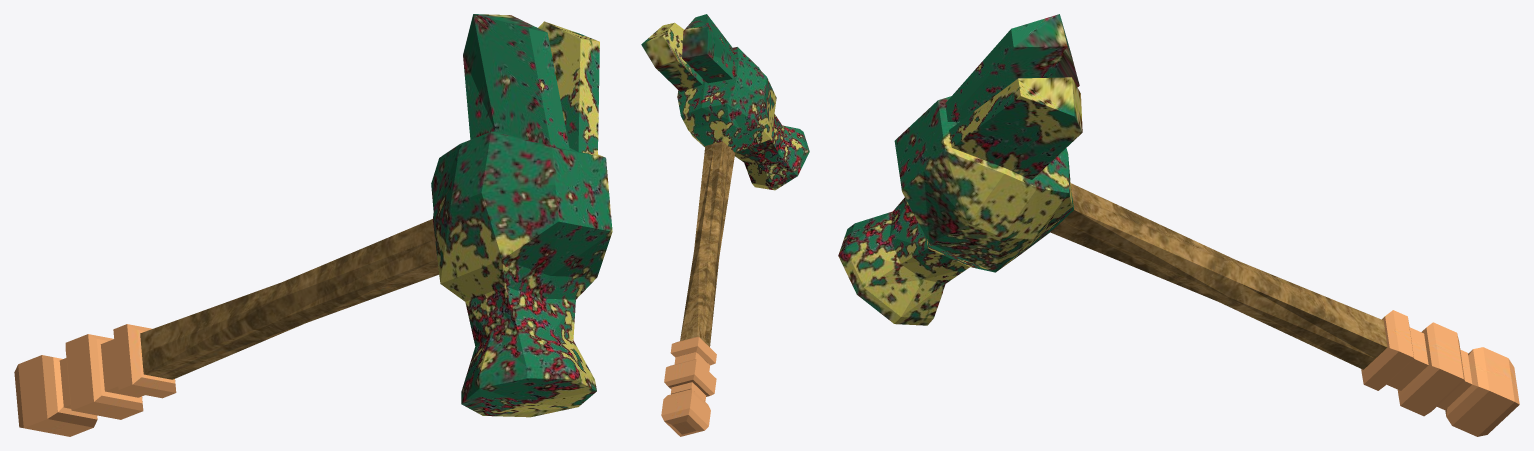
The model's file is mhw_maciekg_hammer.glb.
3 renders of one model, left to right at view 1: azimuth 30°, elevation 25°; view 2: azimuth 150°, elevation 25°; view 3: azimuth 270°, elevation 25°, orthographic. The views are drawn at different scales.
Visible parts, largest first — view 1: mhw_maciekg_hammer; view 2: mhw_maciekg_hammer; view 3: mhw_maciekg_hammer.
Part boxes in pixels (x1,y1,x2,y2): mhw_maciekg_hammer: (14, 14, 612, 436); mhw_maciekg_hammer: (641, 14, 809, 436); mhw_maciekg_hammer: (838, 14, 1519, 436).
Bounding box in the file's own units: 0.2723 × 0.4163 × 0.5122.
1 material, 1 textured.
